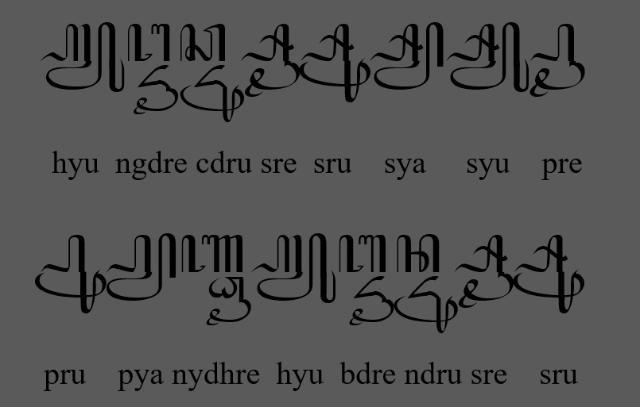_dhre: (204, 276, 252, 328)
_dre: (132, 64, 178, 116), (348, 275, 394, 326)
_dru: (180, 63, 244, 123), (394, 276, 458, 334)
_hyu: (38, 21, 126, 93), (250, 233, 336, 304)
_pre: (528, 23, 586, 97)
_pru: (34, 236, 108, 314)
_py: (107, 234, 177, 302)
_sre: (240, 23, 300, 97), (453, 235, 513, 309)
_sru: (298, 23, 372, 103), (514, 234, 584, 316)
_sy: (370, 22, 444, 90)
_syu: (446, 20, 530, 94)
b: (338, 234, 388, 274)
c: (180, 23, 227, 63)
n: (396, 234, 440, 274)
nga: (127, 22, 171, 62)
ny1: (180, 234, 244, 274)
